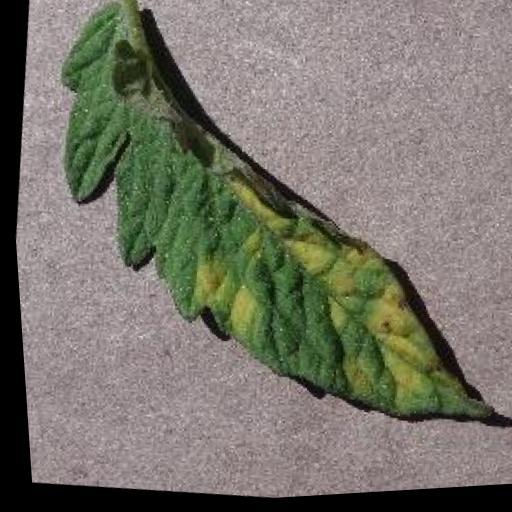Leaf Mold: (17, 0, 512, 450)
